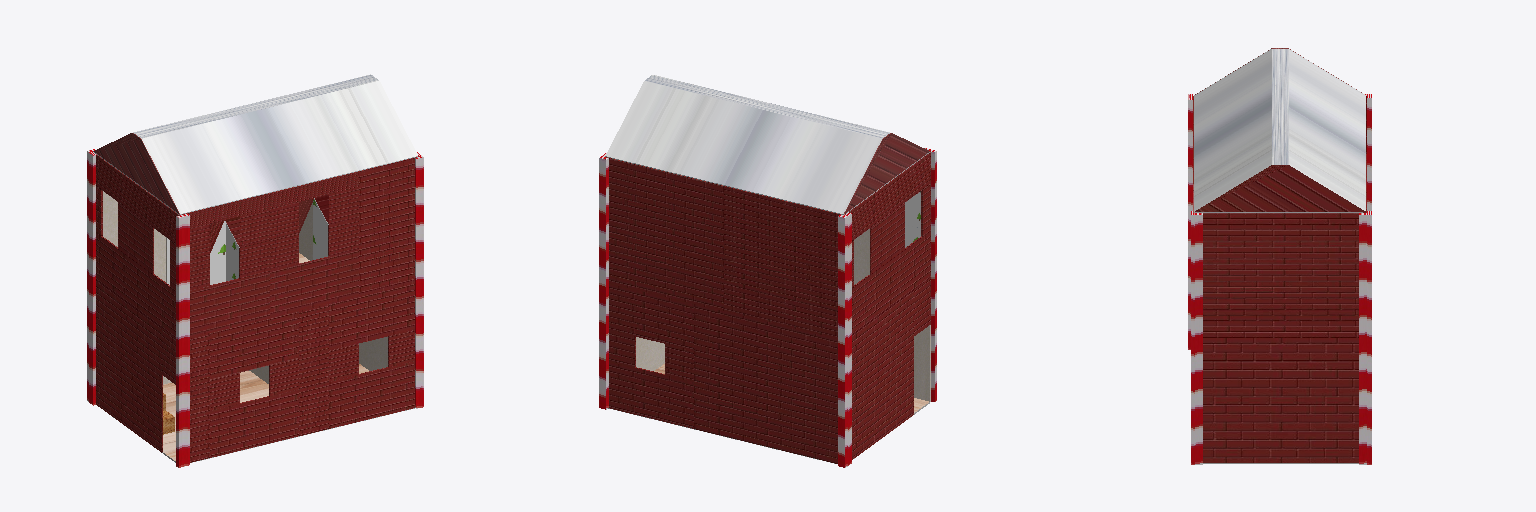
3 views of the same model, side by side, from view 1: azimuth 30°, elevation 25°; view 2: azimuth 150°, elevation 25°; view 3: azimuth 270°, elevation 25° (orthographic).
Parts seen in each view (by area): view 1: polySurface124, pCube63, pCube65, pCube68, pCube64; view 2: polySurface124, pCube69, pCube66, pCube64, pCube68; view 3: polySurface124, pCube67, pCube62, pCube66, pCube63, pCube65, pCube69.
Boxes of the visible parts, box(x1,y1,x2,y2) form: polySurface124: box(93, 74, 418, 462); pCube63: box(415, 156, 423, 408); pCube65: box(180, 214, 189, 466); pCube68: box(89, 152, 96, 405); pCube64: box(176, 216, 181, 467); polySurface124: box(605, 75, 930, 463); pCube69: box(838, 215, 847, 467); pCube66: box(599, 156, 608, 409); pCube64: box(931, 150, 936, 401); pCube68: box(844, 212, 851, 465); polySurface124: box(1193, 48, 1366, 463); pCube67: box(1359, 213, 1366, 464); pCube62: box(1195, 213, 1202, 464); pCube66: box(1367, 211, 1371, 464); pCube63: box(1191, 211, 1194, 464); pCube65: box(1188, 96, 1192, 349); pCube69: box(1367, 94, 1371, 210).
Bounding box in the file's own units: 1650 × 1910 × 1062.
Materials: 39 (7 with a texture image).